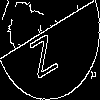Z: (25, 25, 59, 79)
